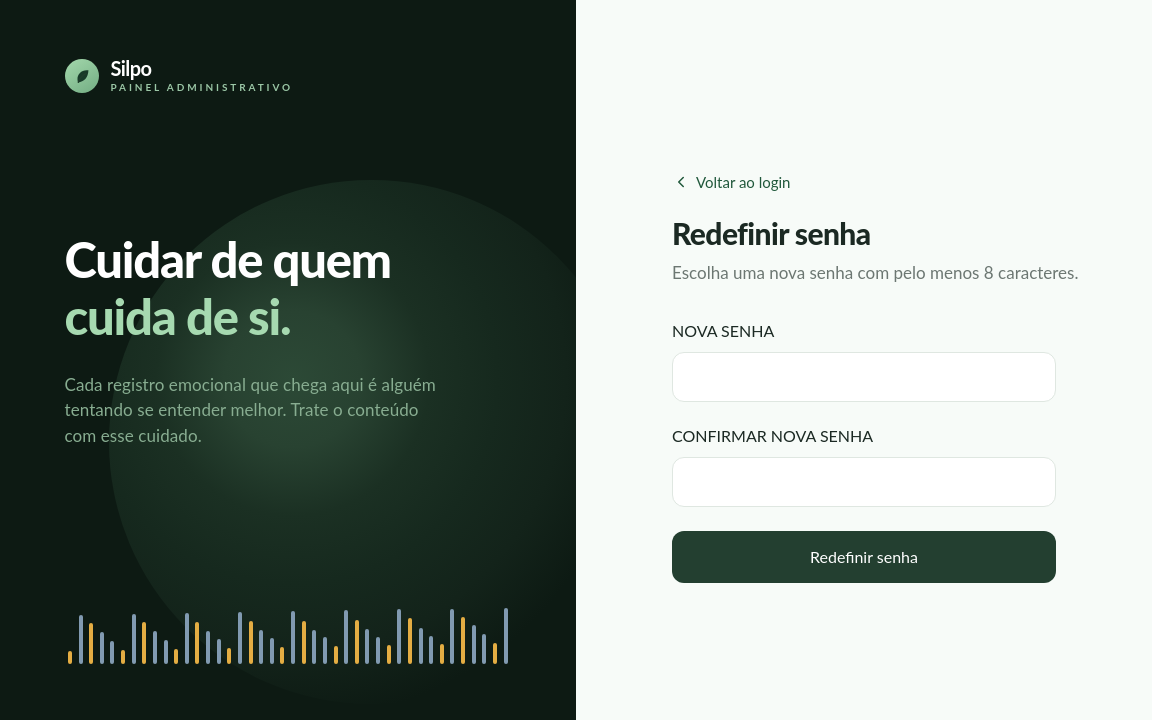
Test: ResetPassword › shows the invalid link state when the code expires before submitting
Type "senha-segura" into the password field labelled "NOVA SENHA" at (864, 377), box [672, 352, 1056, 402]
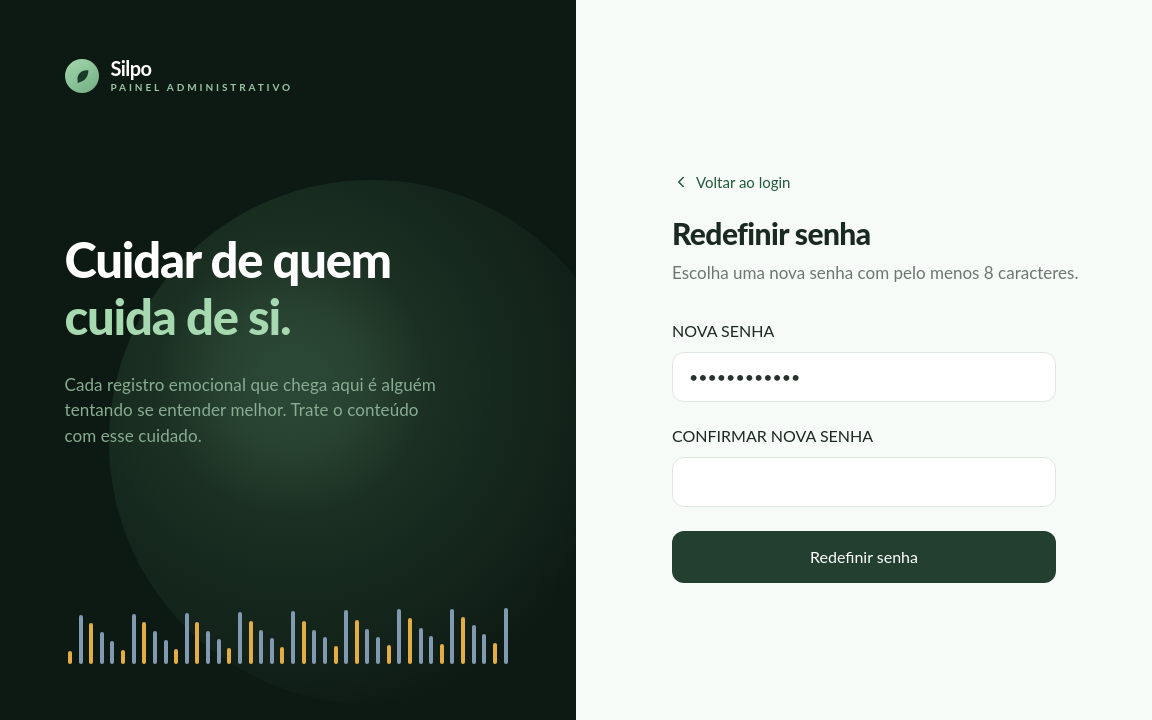
Type "senha-segura" into the password field labelled "CONFIRMAR NOVA SENHA" at (864, 482), box [672, 457, 1056, 507]
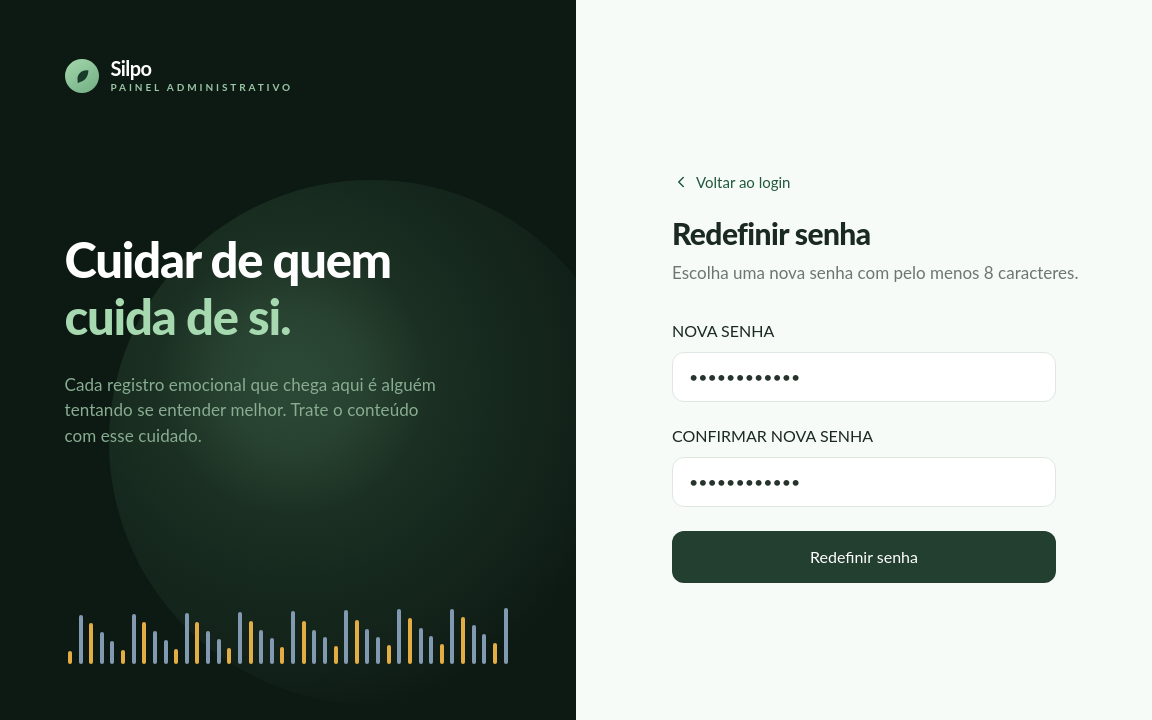
Click the button "Redefinir senha" at (864, 557), box [672, 531, 1056, 583]
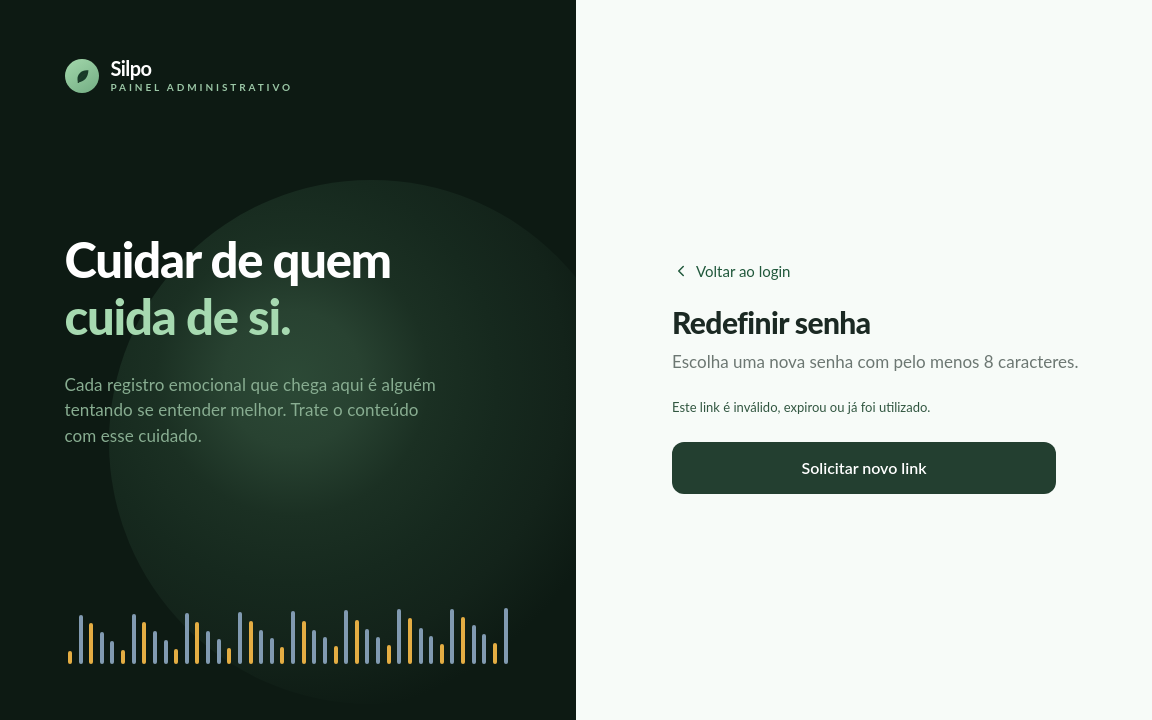
Expected: the text "Este link é inválido, expirou ou já foi utilizado." is shown, [672, 399, 930, 415]
